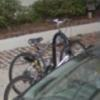bicycles: (9, 19, 88, 100)
